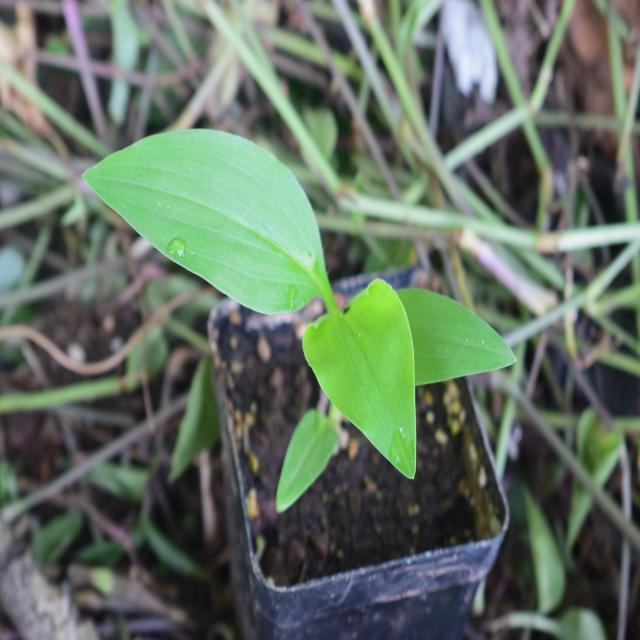Common Dayflower: (93, 104, 506, 497)
